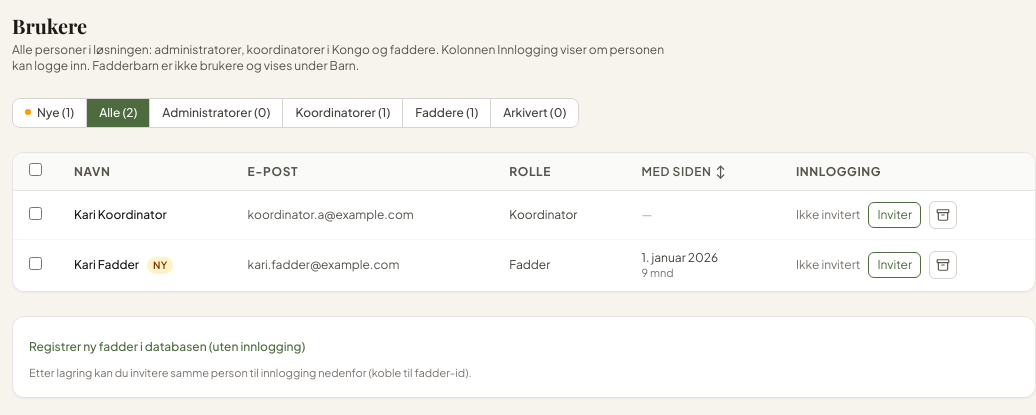
it: brukerlisten: nye fadder › viser Ny-merke og filteret Nye (1) for nettside-registrering uten barn
Expected: the text named "Ny fadder – trenger behandling" is shown, [147,257,173,274]
Click the button "Nye (1)". click: coordinates (50, 113)
box: [13,99,87,127]
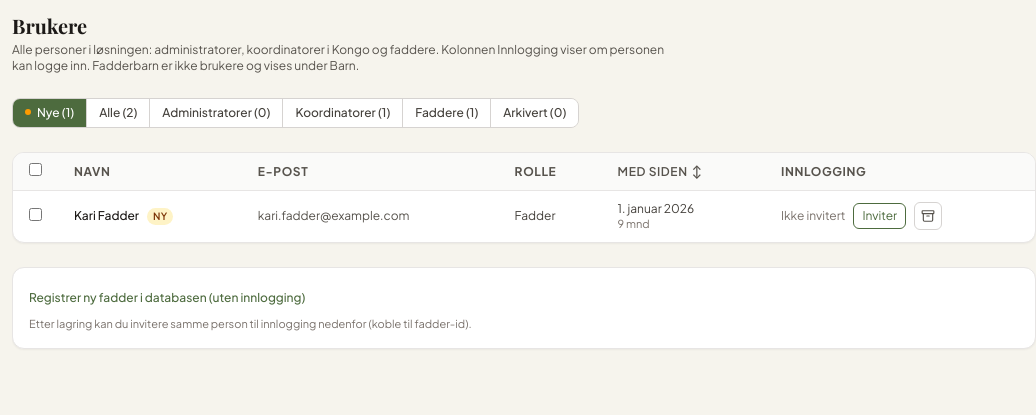
Expected: the text "Kari Fadder" is shown, [74,208,139,223]
Expected: the text "Kari Koordinator" is gone
